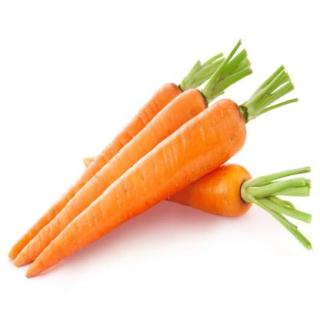Wortel: (27, 100, 248, 279), (15, 89, 208, 269)
